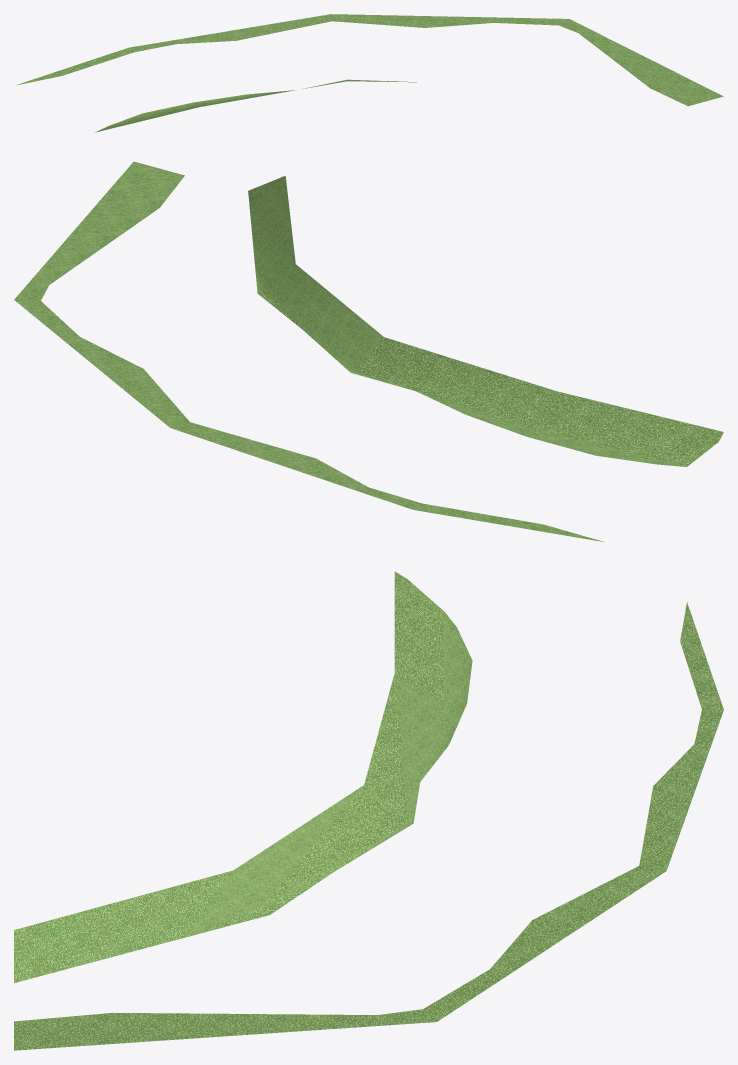
File: kd_stage_135fe0_3_23.glb
3 views of the same model, one above another, from view 1: azimuth 30°, elevation 25°; view 2: azimuth 150°, elevation 25°; view 3: azimuth 270°, elevation 25° (orthographic). The views are drawn at different scales.
Parts seen in each view (by area): view 1: kd_stage_135fe0_3_23; view 2: kd_stage_135fe0_3_23; view 3: kd_stage_135fe0_3_23.
Boxes of the visible parts, left/top/right/bottom form: kd_stage_135fe0_3_23: left=15, top=14, right=723, bottom=132; kd_stage_135fe0_3_23: left=14, top=161, right=723, bottom=542; kd_stage_135fe0_3_23: left=14, top=571, right=723, bottom=1050.
Size of the model in its own units: 25.48 by 0.8 by 16.95.
Materials: 1 (1 with a texture image).
